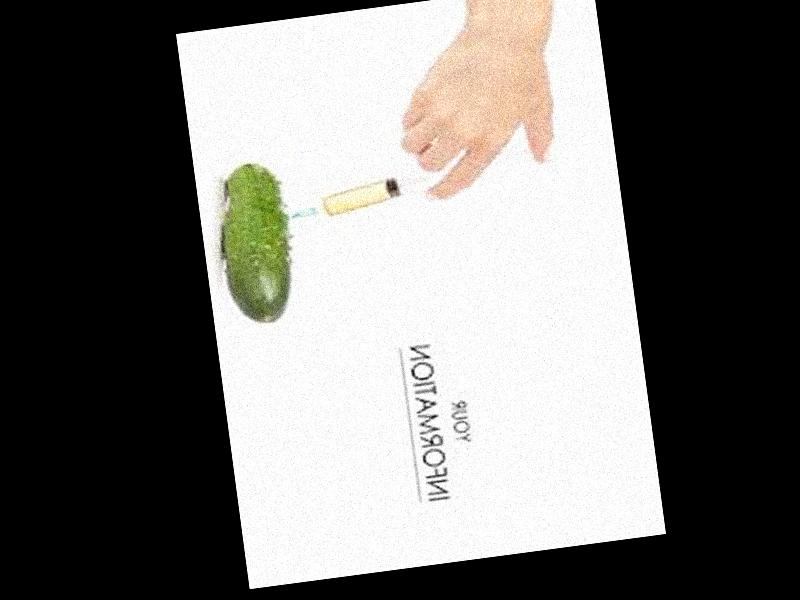Cucumber: (215, 157, 301, 326)
